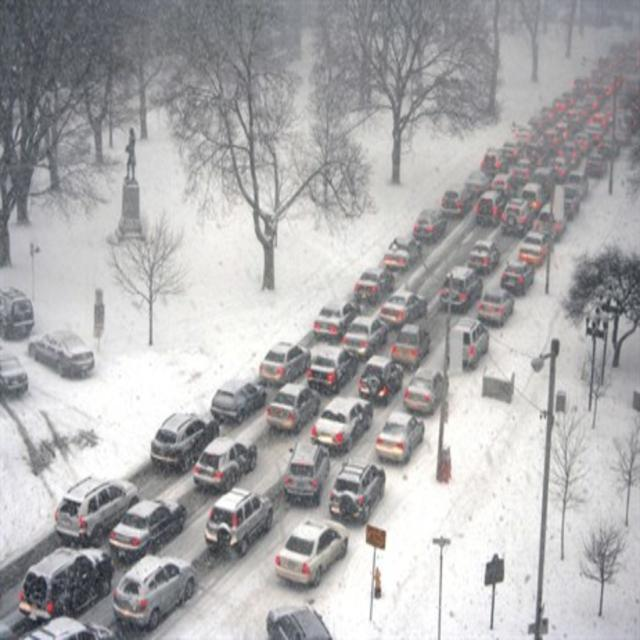car: (17, 542, 115, 624), (112, 554, 199, 633), (54, 477, 138, 548), (274, 516, 350, 590), (109, 496, 184, 558), (150, 410, 215, 470), (206, 492, 268, 550), (32, 327, 98, 379), (197, 437, 260, 491), (329, 465, 385, 524), (283, 429, 327, 504), (312, 398, 368, 454), (264, 603, 340, 639), (376, 411, 425, 464), (265, 377, 315, 426), (212, 378, 266, 421), (260, 340, 311, 379), (312, 338, 352, 383), (440, 265, 480, 308), (452, 318, 490, 363), (404, 373, 442, 417), (393, 322, 429, 366), (363, 359, 401, 399), (346, 316, 386, 351), (0, 353, 30, 398), (2, 295, 34, 337), (384, 233, 422, 266), (314, 299, 356, 327), (502, 258, 532, 297), (382, 288, 423, 316), (353, 267, 389, 297), (414, 207, 445, 239), (481, 289, 511, 322), (467, 238, 498, 268), (441, 182, 471, 210), (521, 232, 547, 264), (476, 188, 502, 220), (502, 198, 527, 228), (560, 186, 580, 219), (571, 164, 591, 194), (521, 182, 541, 209), (479, 152, 503, 174), (499, 136, 519, 162), (536, 164, 554, 192), (587, 154, 605, 178), (490, 170, 510, 190), (516, 120, 536, 139), (573, 78, 589, 98), (544, 128, 559, 148), (602, 135, 616, 156), (577, 130, 589, 152), (591, 111, 607, 126), (565, 138, 577, 155)
